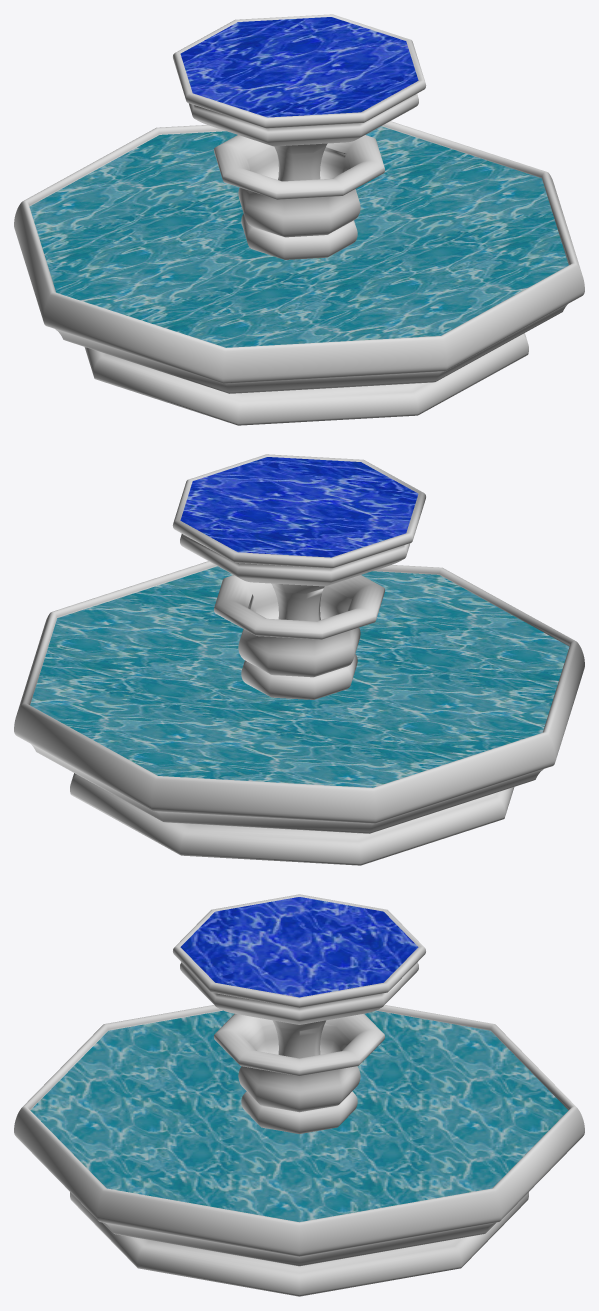
File: Fontaene.glb
The picture shows the model from 3 angles, top to bottom: view 1: azimuth 30°, elevation 25°; view 2: azimuth 150°, elevation 25°; view 3: azimuth 270°, elevation 25°; orthographic projection. The views are drawn at different scales.
Parts seen in each view (by area): view 1: Fontaene; view 2: Fontaene; view 3: Fontaene.
Part boxes in pixels (box(x1,y1,x2,y2)): Fontaene: box(14, 14, 584, 425); Fontaene: box(14, 454, 584, 865); Fontaene: box(14, 894, 584, 1296).
Size of the model in its own units: 1.02 by 0.4979 by 1.02.
Materials: 3 (2 with a texture image).
